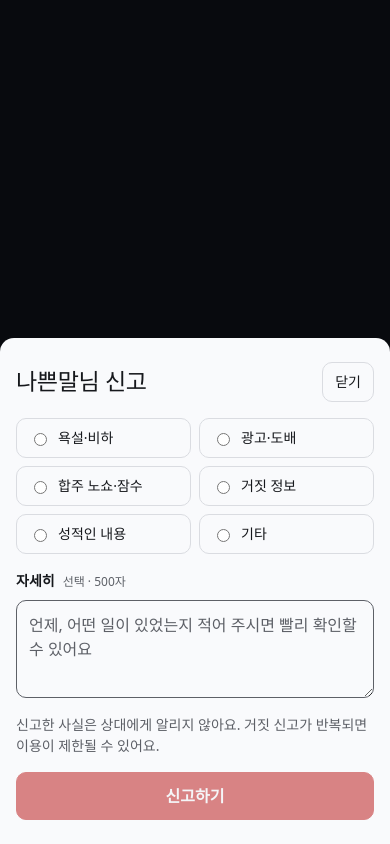
Scenario: 신고 시트 › 이유를 골라야 보낼 수 있고, 보내면 안내 문구를 보여준다
The width and height of the screenshot is (390, 844).
Expected: the button "신고하기" is disabled, 16,772 -> 374,820
Click the radio button labelled "합주 노쇼·잠수". click: (40, 488)
box: 34,481 -> 47,494
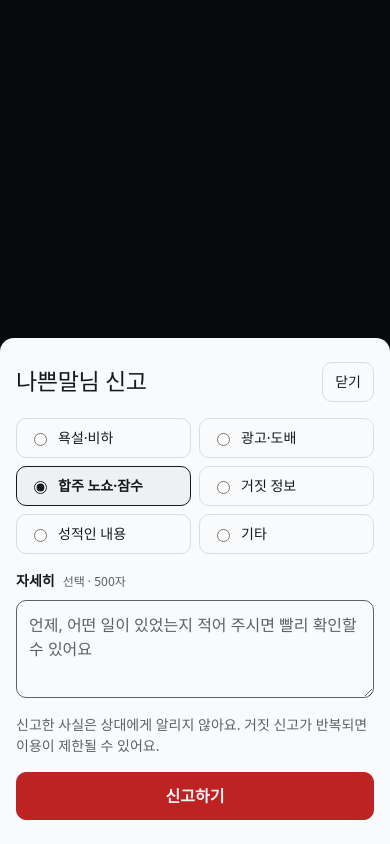
Click the button "신고하기". click: (195, 796)
box: 16,772 -> 374,820
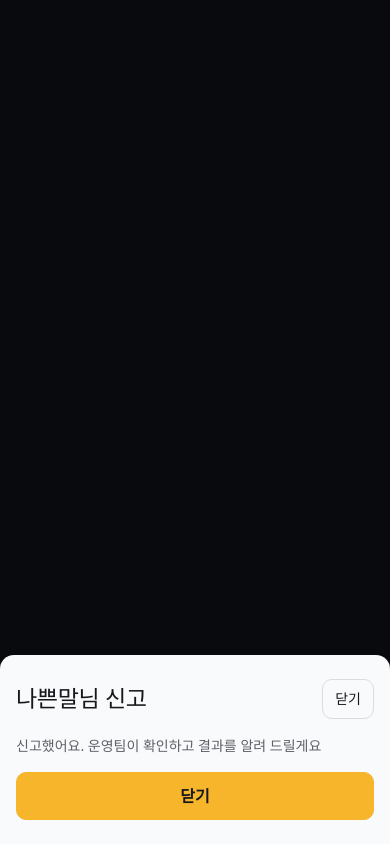
Now the message reads "신고했어요. 운영팀이 확인하고 결과를 알려 드릴게요", box 16,736 -> 321,755
